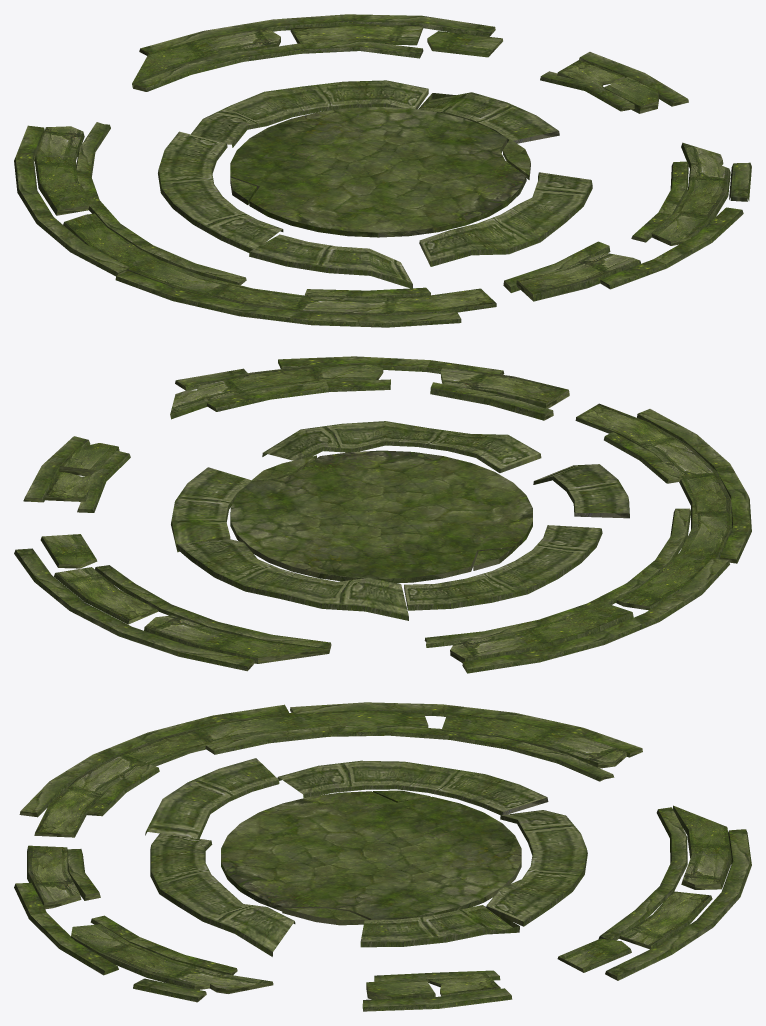
File: zz_taizi_1.FBX
3 views of the same model, one above another, from view 1: azimuth 30°, elevation 25°; view 2: azimuth 150°, elevation 25°; view 3: azimuth 270°, elevation 25° (orthographic). The views are drawn at different scales.
Parts seen in each view (by area): view 1: zz_taizi_1; view 2: zz_taizi_1; view 3: zz_taizi_1.
Part boxes in pixels (x1,y1,x2,y2): zz_taizi_1: [14, 14, 751, 327]; zz_taizi_1: [14, 356, 751, 673]; zz_taizi_1: [14, 702, 751, 1011].
Size of the model in its own units: 2482 by 97.9 by 2530.
